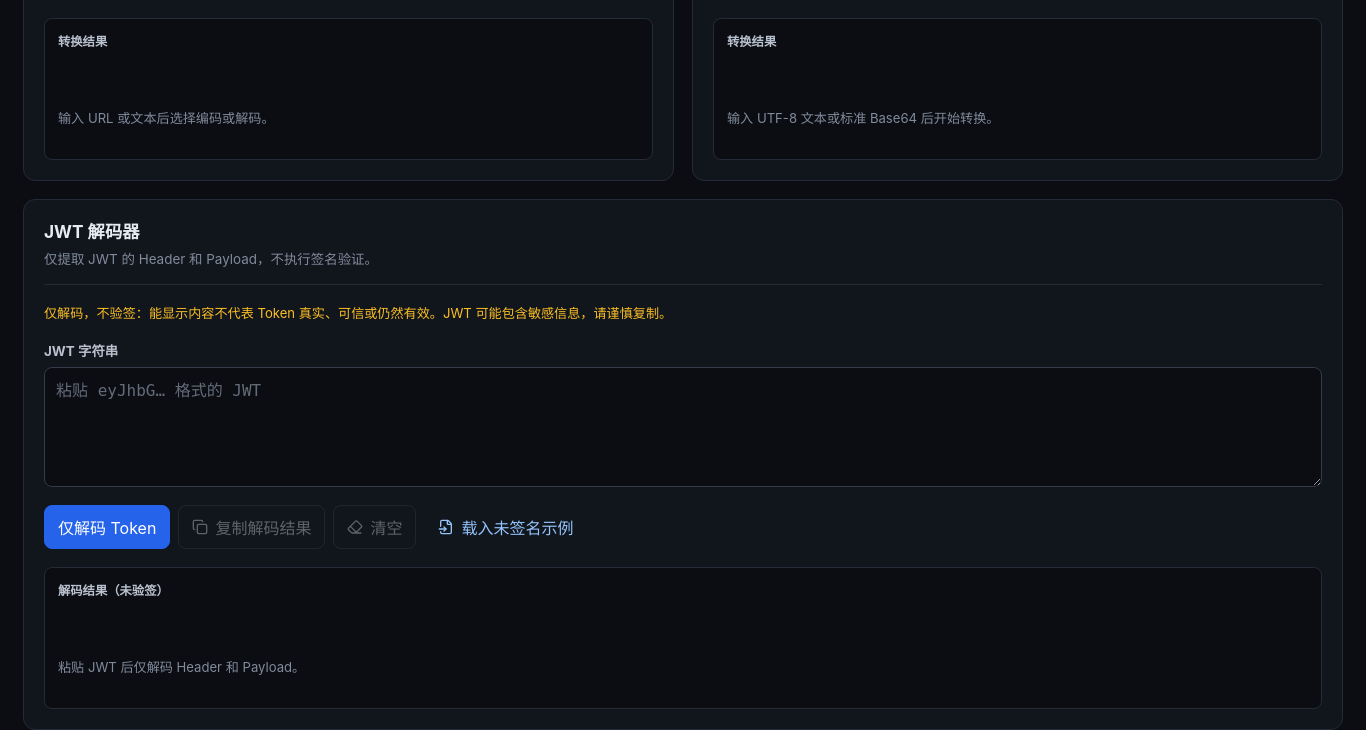
Scenario: EncodeTools › shows an accessible error for malformed JWT input
(page scrolled)
Step 1. Type "not-a-token" into the text box labelled "JWT 字符串" → (683, 426), box [44,366,1322,486]
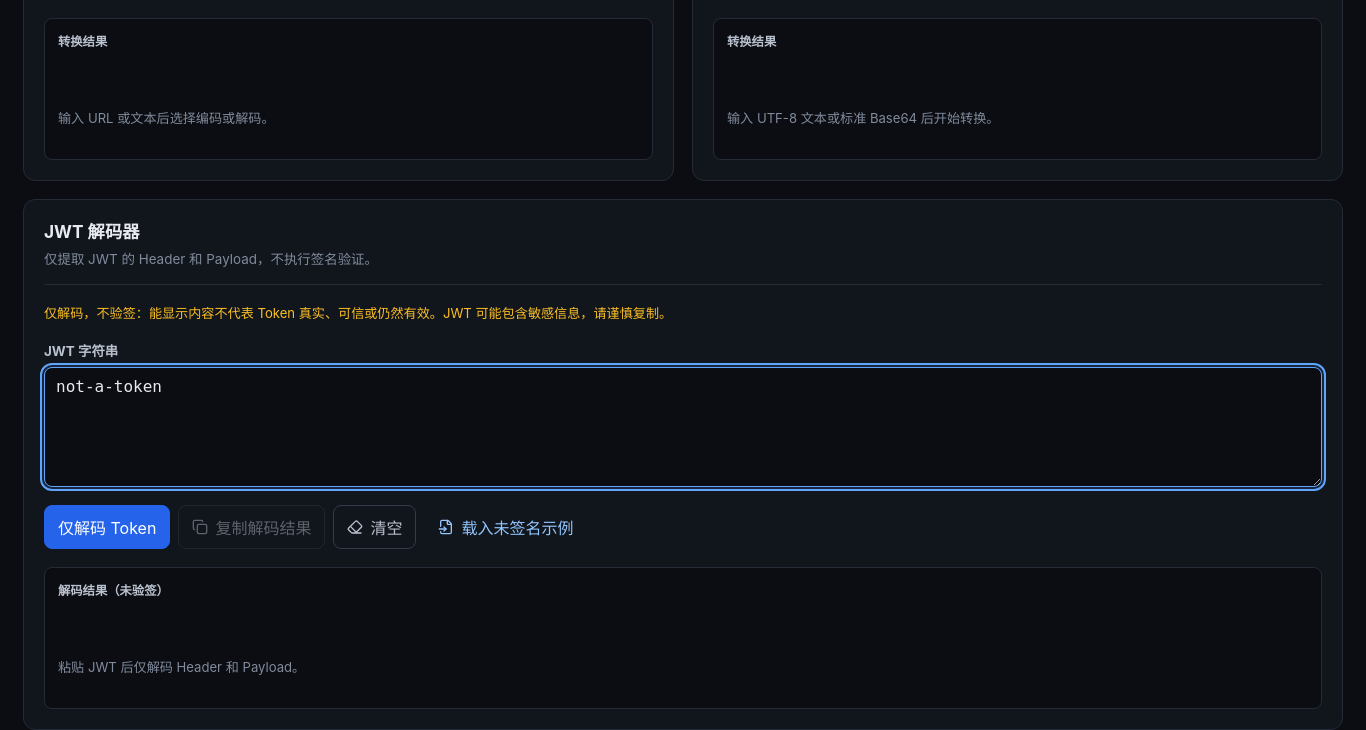
Step 2. Click the button "仅解码 Token" → click(107, 526), box [44,504,170,548]
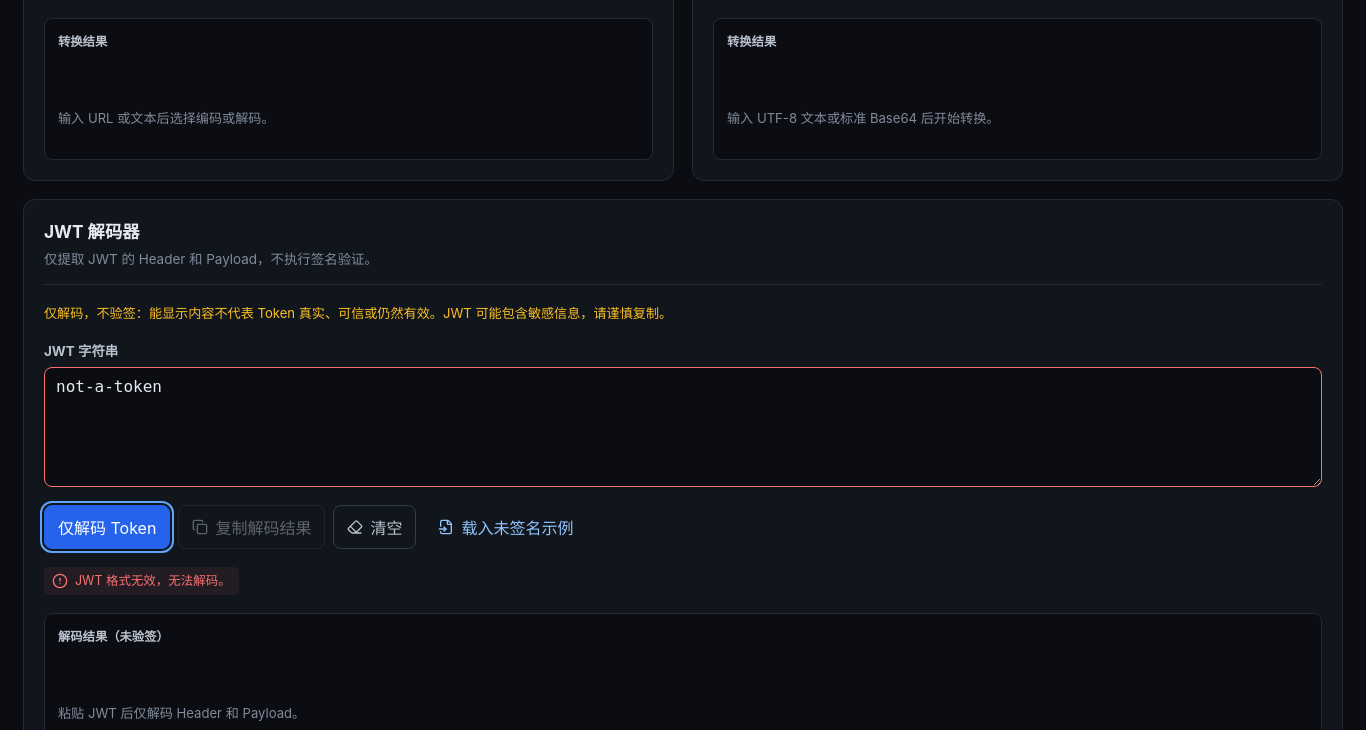
Expected: the message shows "JWT 格式无效", [75,572,231,588]
